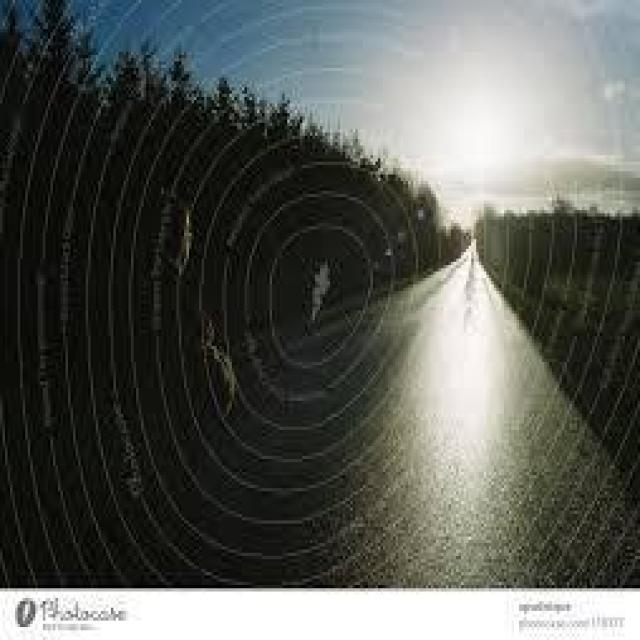other: (432, 277, 492, 464), (446, 97, 507, 182)
